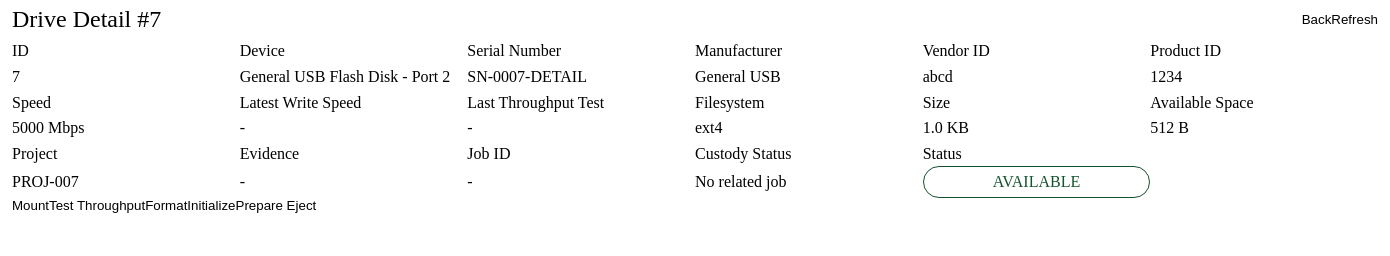
Test: DriveDetailView mount workflow › shows the Mount action for managers and updates the mount point after success
Click the button "Mount".
click(30, 206)  # box [12,198,49,213]
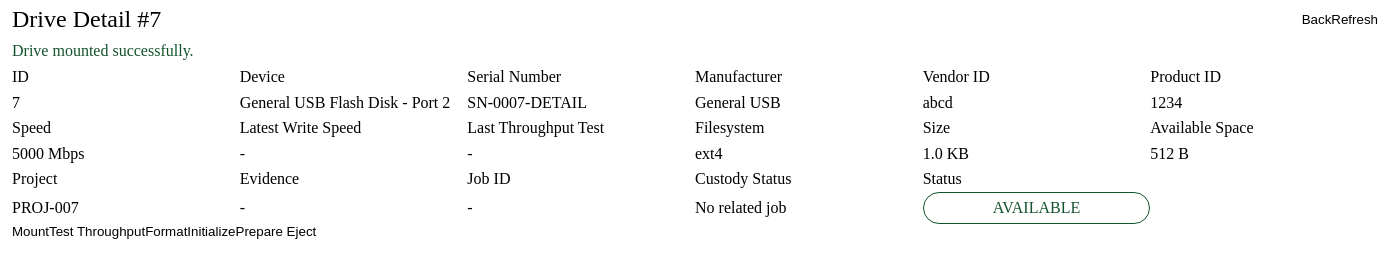
Expected: the text "Drive mounted successfully." is shown, [12,42,194,59]
